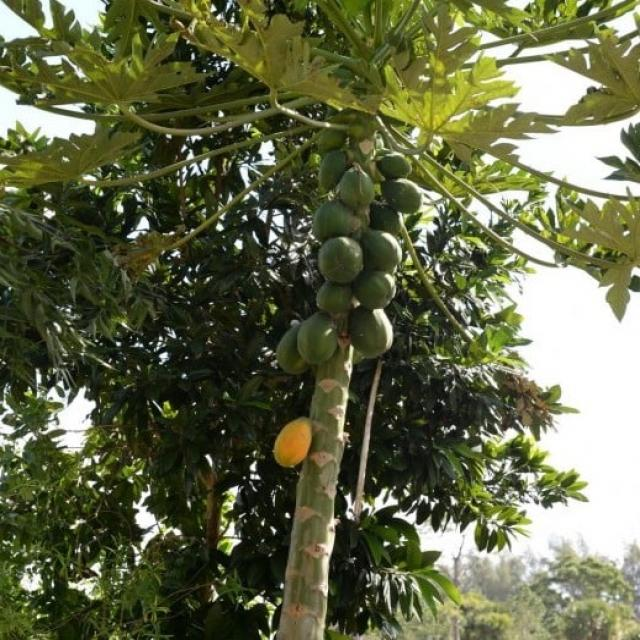Pepaya rippen: (266, 413, 321, 469)
Pepaya unrippen: (314, 232, 366, 286), (296, 313, 340, 362), (355, 309, 397, 360), (383, 180, 428, 218), (340, 164, 372, 210), (378, 147, 412, 177), (371, 234, 401, 266)
